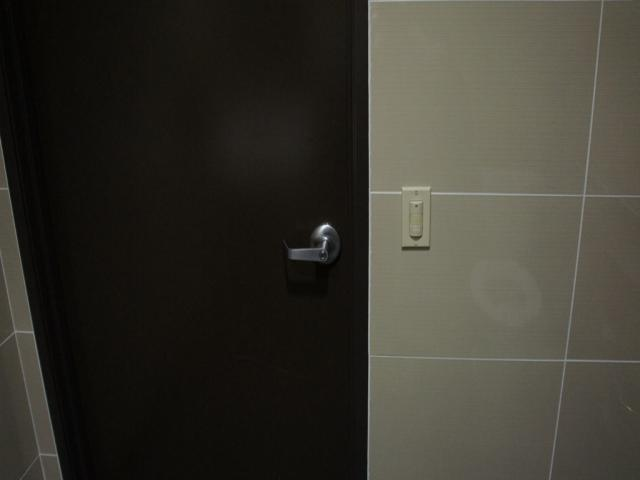Door-handle: (285, 224, 341, 266)
